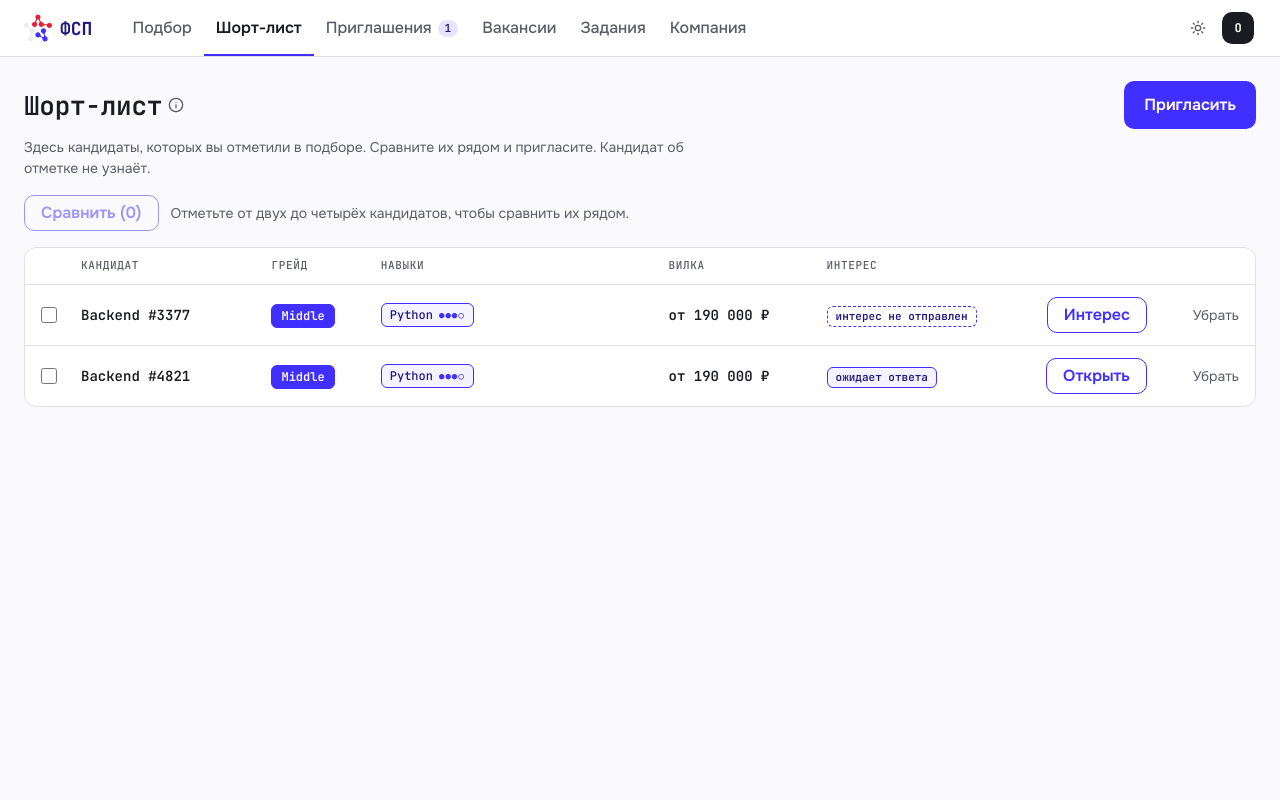
Test: «Интерес» открывает модалку на месте
Click the button "Интерес": {"x": 1097, "y": 315} [1047, 297, 1147, 333]
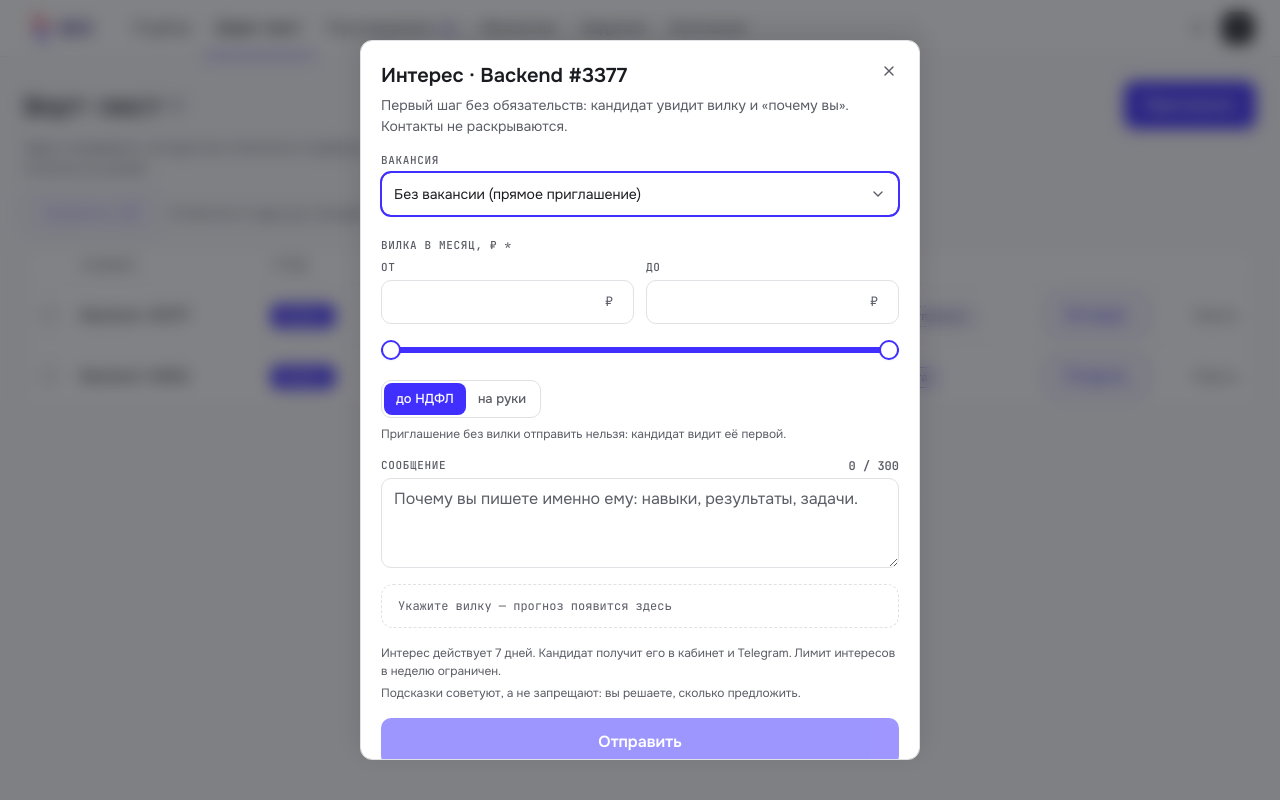
Expected: the dialog is shown, [360, 40, 920, 760]
